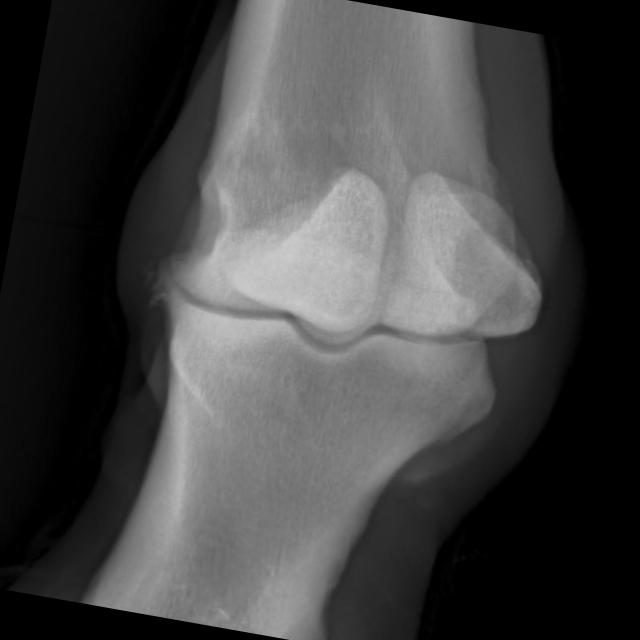bone remodeling: (148, 227, 203, 319)
